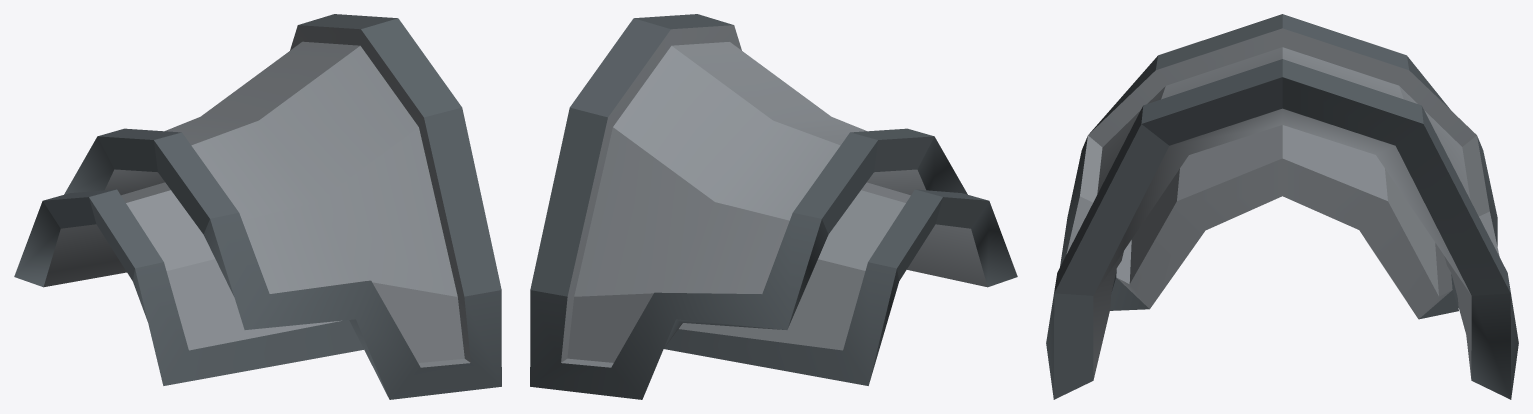
File: Chr_ShoulderAttachRight_19_Static.fbx
3 views of the same model, side by side, from view 1: azimuth 30°, elevation 25°; view 2: azimuth 150°, elevation 25°; view 3: azimuth 270°, elevation 25° (orthographic). The views are drawn at different scales.
Parts seen in each view (by area): view 1: Chr_ShoulderAttachRight_19_Static; view 2: Chr_ShoulderAttachRight_19_Static; view 3: Chr_ShoulderAttachRight_19_Static.
Boxes of the visible parts, x1,y1,x2,y2 form: Chr_ShoulderAttachRight_19_Static: (14, 14, 501, 399); Chr_ShoulderAttachRight_19_Static: (530, 14, 1017, 399); Chr_ShoulderAttachRight_19_Static: (1046, 14, 1518, 399).
Bounding box in the file's own units: 0.2955 × 0.267 × 0.3541.
